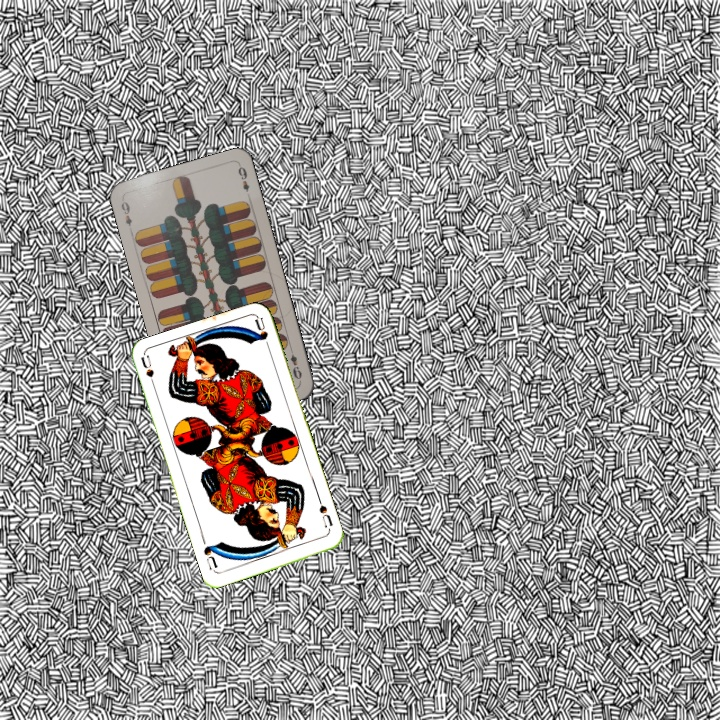E9: (286, 344, 304, 383), (117, 197, 135, 235)
SU: (137, 352, 159, 393), (314, 495, 335, 530)
